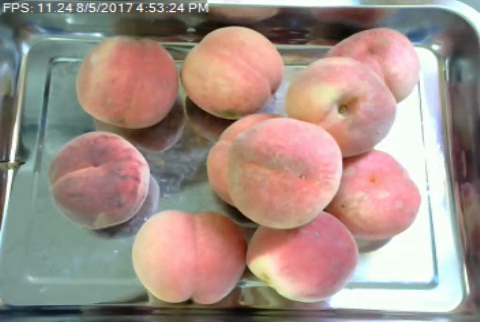Peach: (228, 118, 343, 229), (286, 56, 397, 158), (133, 210, 251, 303), (49, 130, 151, 228), (244, 215, 360, 300), (182, 26, 284, 118), (79, 36, 180, 127), (328, 149, 421, 236), (323, 26, 418, 102)
